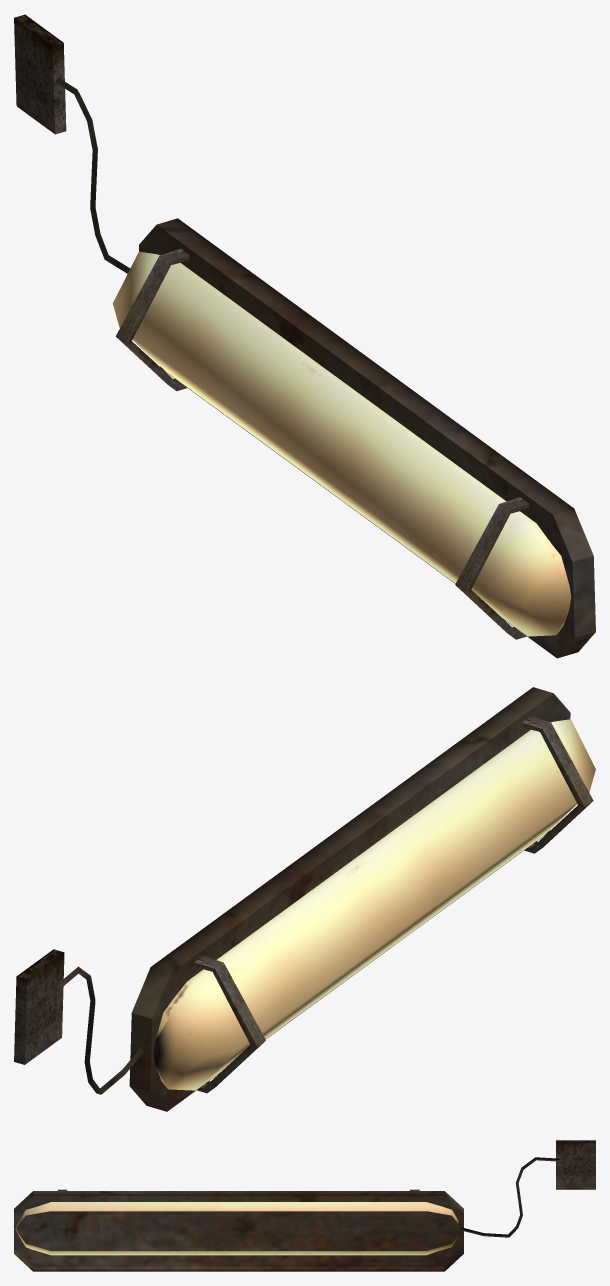
The model's file is TubeLightA.fbx.
3 views of the same model, one above another, from view 1: azimuth 30°, elevation 25°; view 2: azimuth 150°, elevation 25°; view 3: azimuth 270°, elevation 25° (orthographic). The views are drawn at different scales.
Visible parts, largest first — view 1: TubeLightA; view 2: TubeLightA; view 3: TubeLightA.
Boxes of the visible parts, bbox=[...] form: TubeLightA: bbox=[14, 14, 595, 658]; TubeLightA: bbox=[14, 687, 595, 1111]; TubeLightA: bbox=[14, 1140, 595, 1271].
Bounding box in the file's own units: 23.04 × 59.45 × 247.
